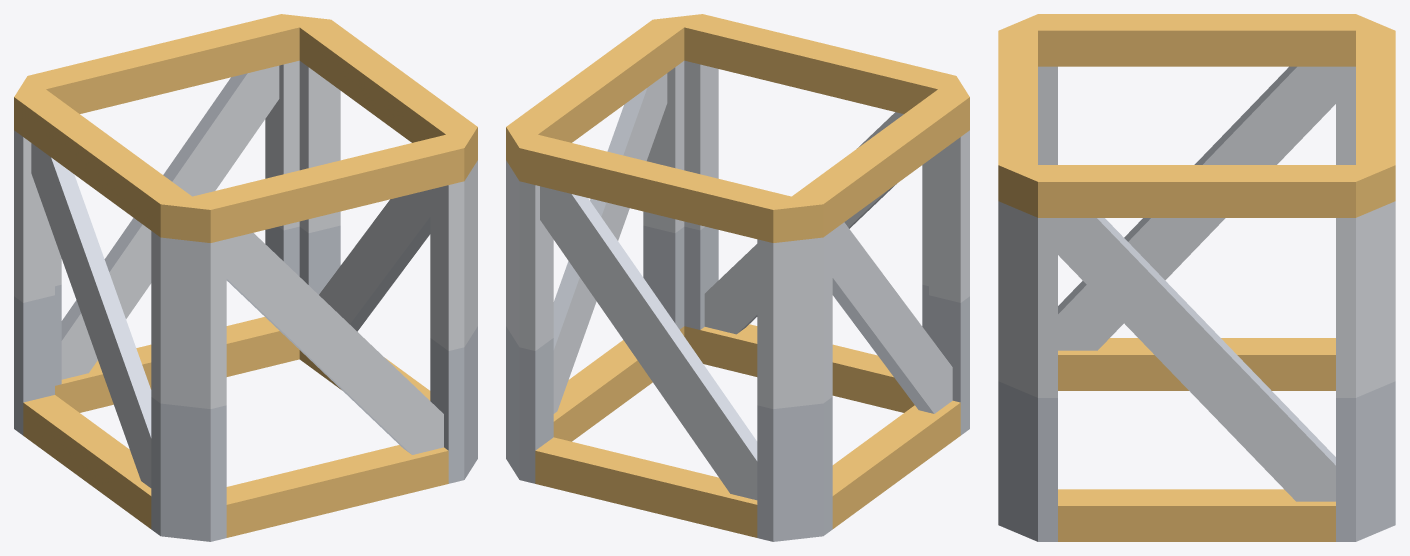
File: structure_diagonal.glb
3 renders of one model, left to right at view 1: azimuth 30°, elevation 25°; view 2: azimuth 150°, elevation 25°; view 3: azimuth 270°, elevation 25°, orthographic. The views are drawn at different scales.
Parts seen in each view (by area): view 1: structure_diagonal; view 2: structure_diagonal; view 3: structure_diagonal.
Boxes of the visible parts, box(x1,y1,x2,y2) form: structure_diagonal: box(14, 14, 477, 541); structure_diagonal: box(506, 14, 969, 541); structure_diagonal: box(998, 14, 1395, 541).
Size of the model in its own units: 1 by 1 by 1.
Materials: 1 (1 with a texture image).
